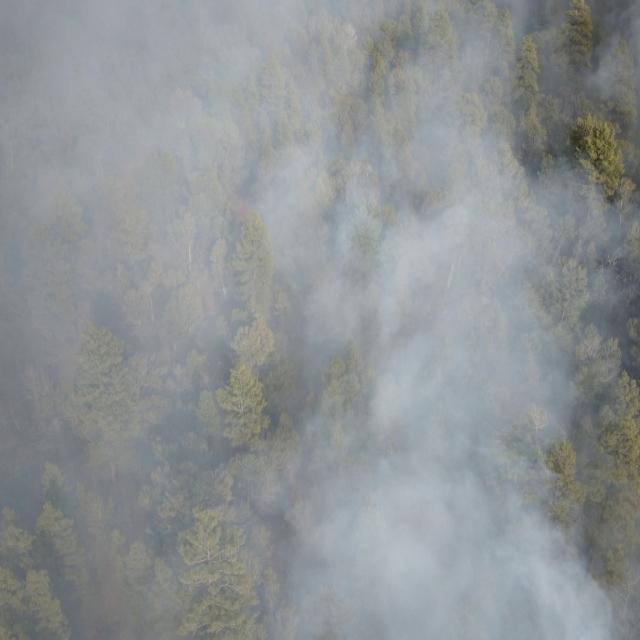smoke: (0, 0, 573, 640), (573, 175, 639, 640), (574, 0, 640, 120), (618, 119, 640, 176)
